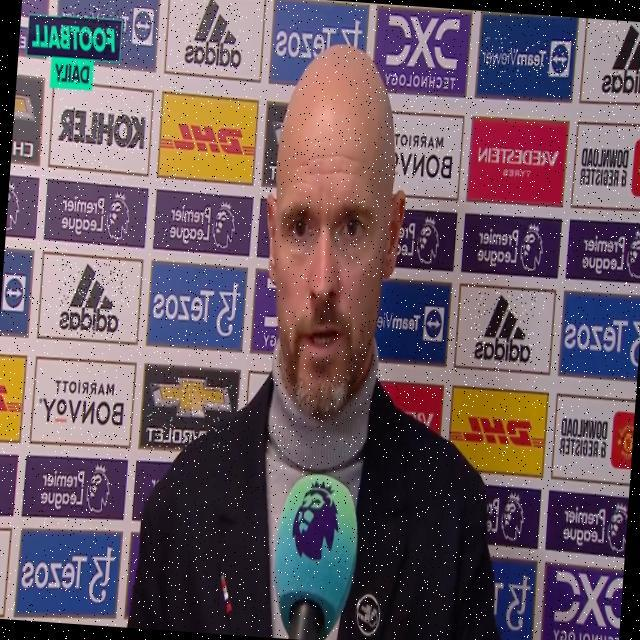Adidas: (56, 259, 125, 338), (472, 289, 536, 367), (182, 0, 245, 69), (598, 19, 640, 97)
Chevrolet: (145, 372, 232, 454)
Kohler: (56, 105, 145, 151)
TeamViewer: (481, 35, 570, 78), (59, 3, 152, 43)
